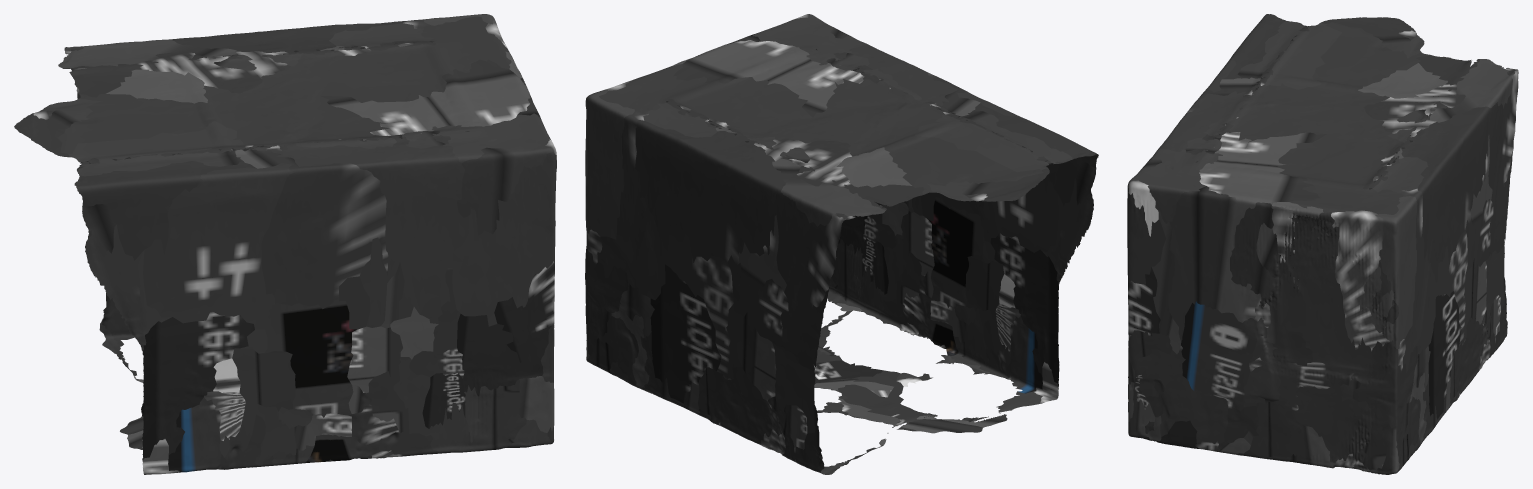
File: env.fbx
3 renders of one model, left to right at view 1: azimuth 30°, elevation 25°; view 2: azimuth 150°, elevation 25°; view 3: azimuth 270°, elevation 25°, orthographic. The views are drawn at different scales.
Parts seen in each view (by area): view 1: mesh; view 2: mesh; view 3: mesh.
Part boxes in pixels (x1=…): mesh: x1=14, y1=14, x2=556, y2=474; mesh: x1=585, y1=14, x2=1098, y2=474; mesh: x1=1127, y1=14, x2=1518, y2=474.
Size of the model in its own units: 1055 by 617 by 842.
